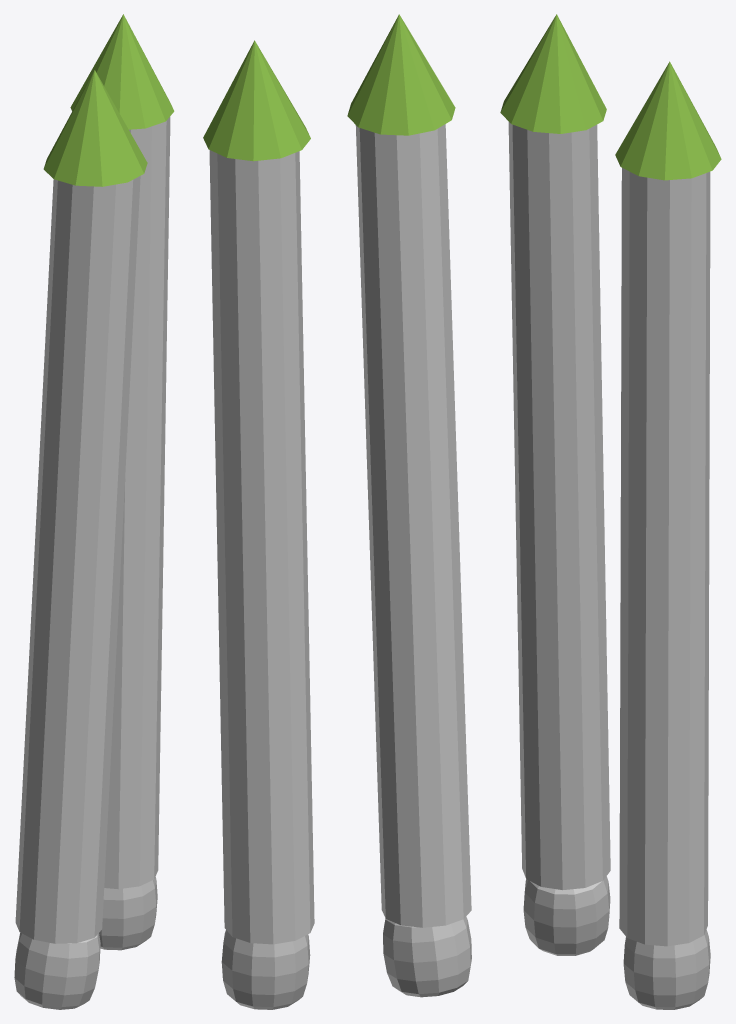
The model's file is Spaceship3.obj.
The picture shows the model from 3 angles, left to right: view 1: azimuth 30°, elevation 25°; view 2: azimuth 150°, elevation 25°; view 3: azimuth 270°, elevation 25°; orthographic projection. The views are drawn at different scales.
Visible parts, largest first — view 1: group1532330287; view 2: group1532330287; view 3: group1532330287.
Part boxes in pixels (x1,y1,x2,y2): group1532330287: (14, 14, 174, 1009); group1532330287: (203, 14, 471, 1009); group1532330287: (500, 14, 721, 1009).
Size of the model in its own units: 0.0784 by 0.3524 by 0.0746.
